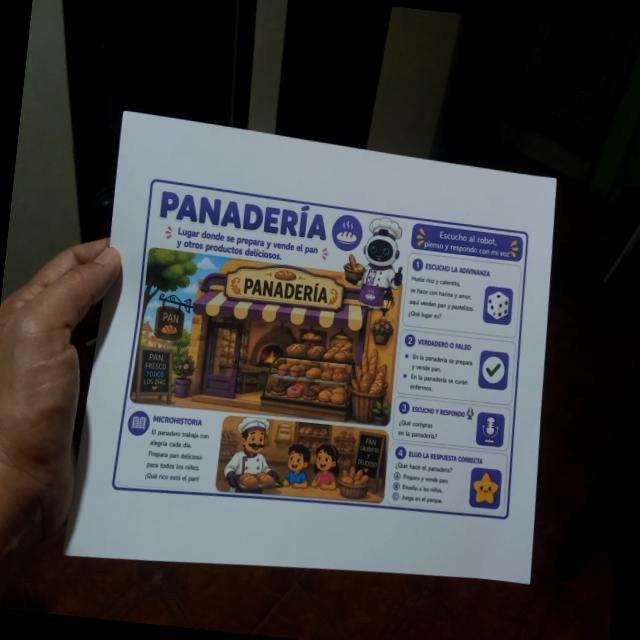panaderia: (105, 171, 546, 536)
